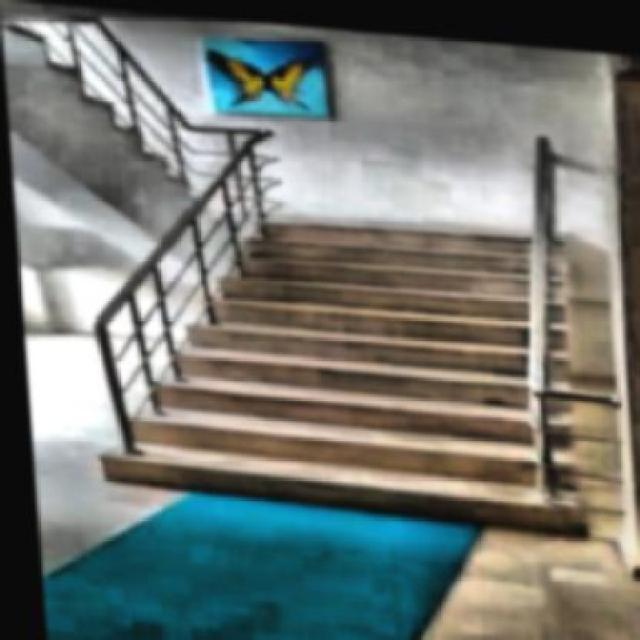stair: (83, 184, 605, 534)
